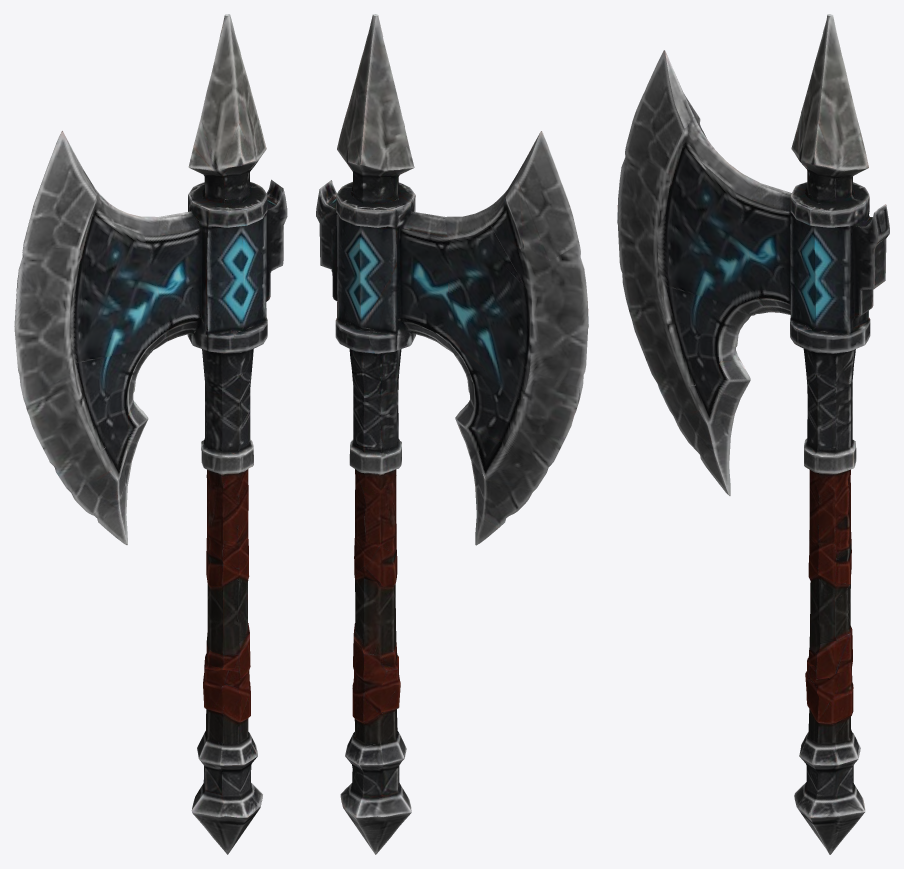
File: stormcleaver_axe.glb
3 views of the same model, side by side, from view 1: azimuth 30°, elevation 25°; view 2: azimuth 150°, elevation 25°; view 3: azimuth 330°, elevation 25° (orthographic).
Bounding box in the file's own units: 0.9132 × 2.75 × 0.2377.
Materials: 1 (1 with a texture image).
